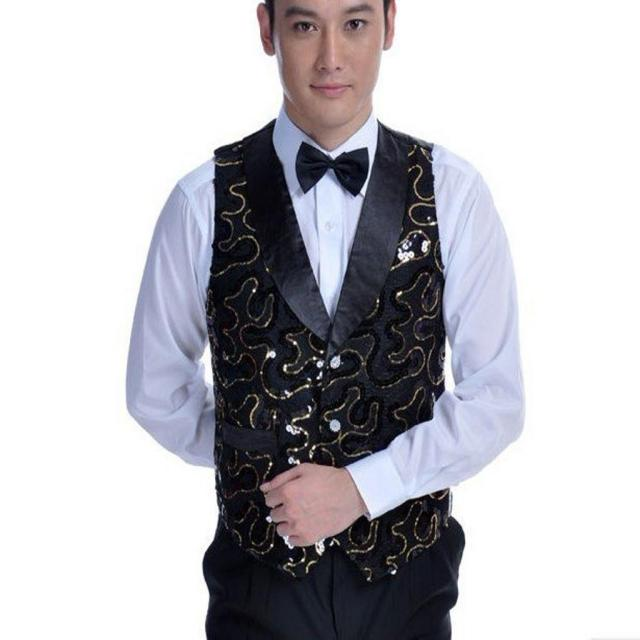nomask: (272, 4, 383, 126)
